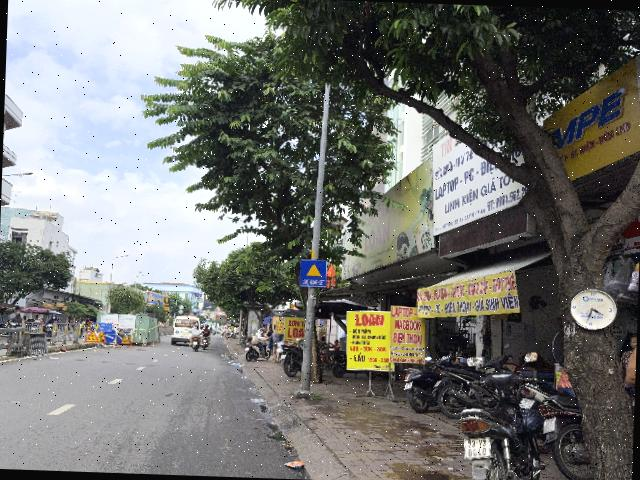khu-vuc-cho-phia-truoc: (300, 258, 328, 287)
